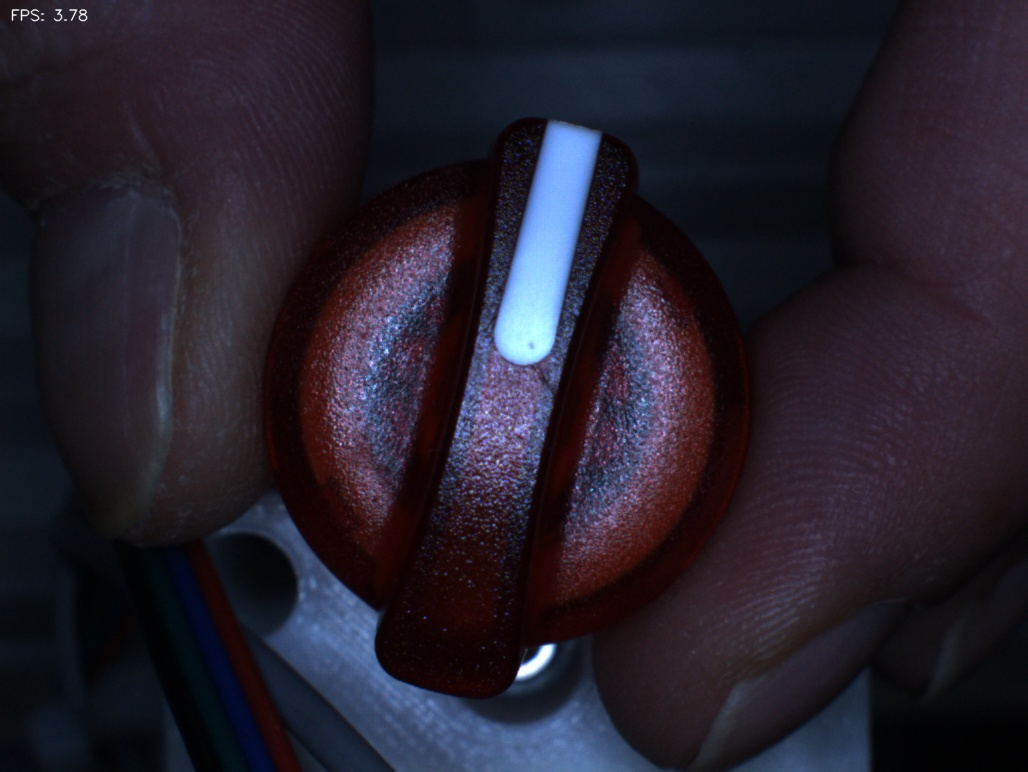PointNoir: (494, 318, 566, 388)
